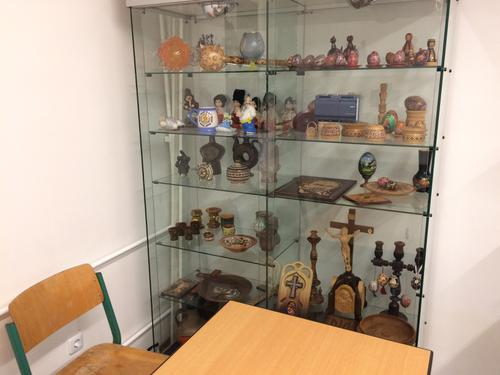iot2000: (314, 94, 361, 124)
